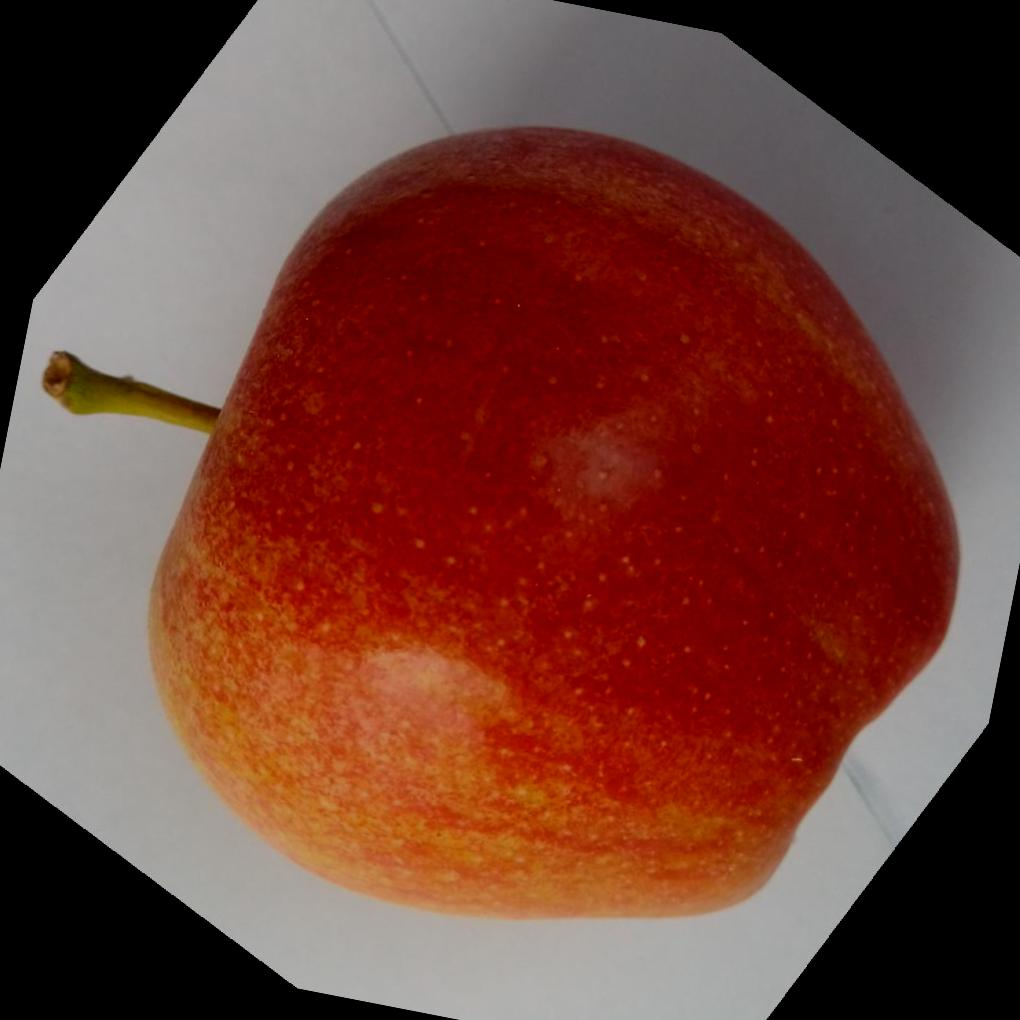FreshGuava: (144, 119, 963, 919)
